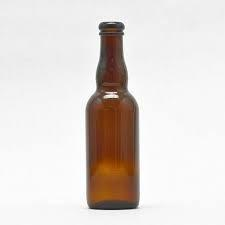beer: (86, 22, 140, 210)
